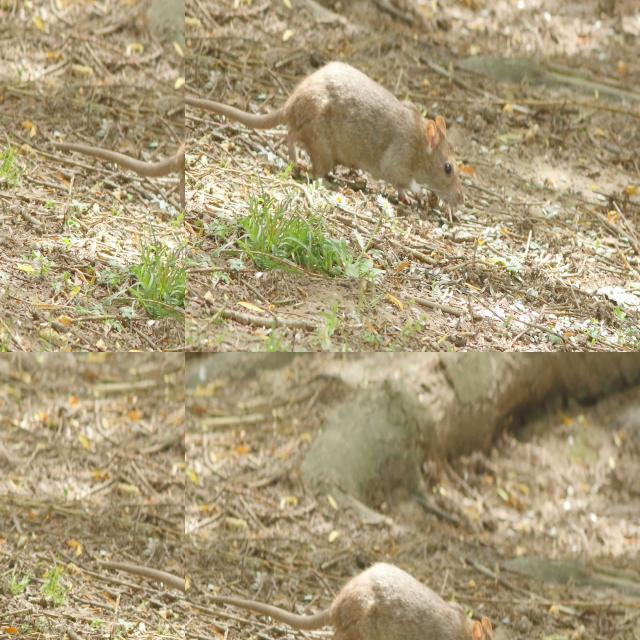rat: (333, 563, 514, 640)
